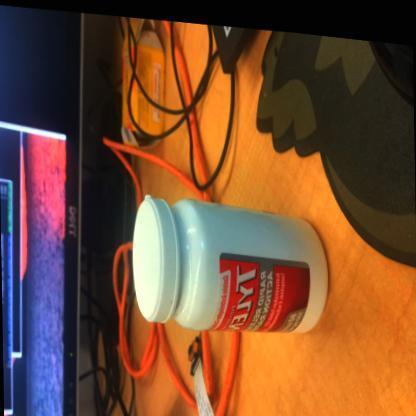jar: (126, 195, 335, 342)
